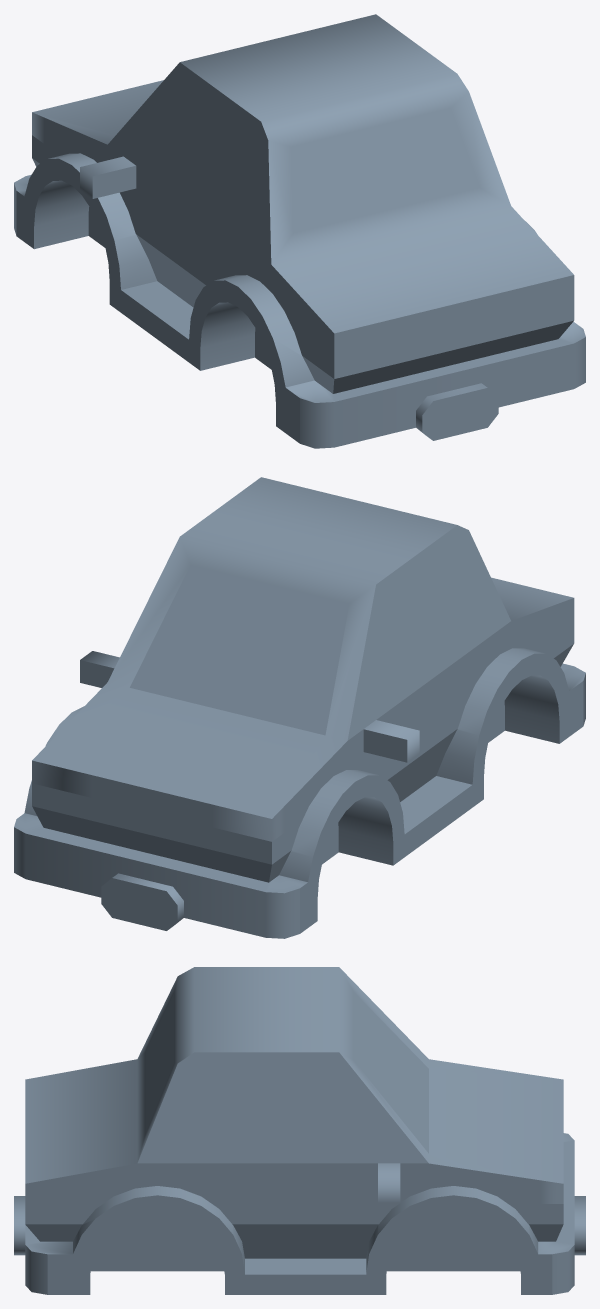
The model's file is sedan.glb.
3 views of the same model, one above another, from view 1: azimuth 30°, elevation 25°; view 2: azimuth 150°, elevation 25°; view 3: azimuth 270°, elevation 25° (orthographic). The views are drawn at different scales.
Visible parts, largest first — view 1: body; view 2: body; view 3: body.
Boxes of the visible parts, left/top/right/bottom form: body: left=14, top=14, right=585, bottom=448; body: left=14, top=477, right=585, bottom=938; body: left=14, top=967, right=585, bottom=1294.
Size of the model in its own units: 1.5 by 1.15 by 2.55.
